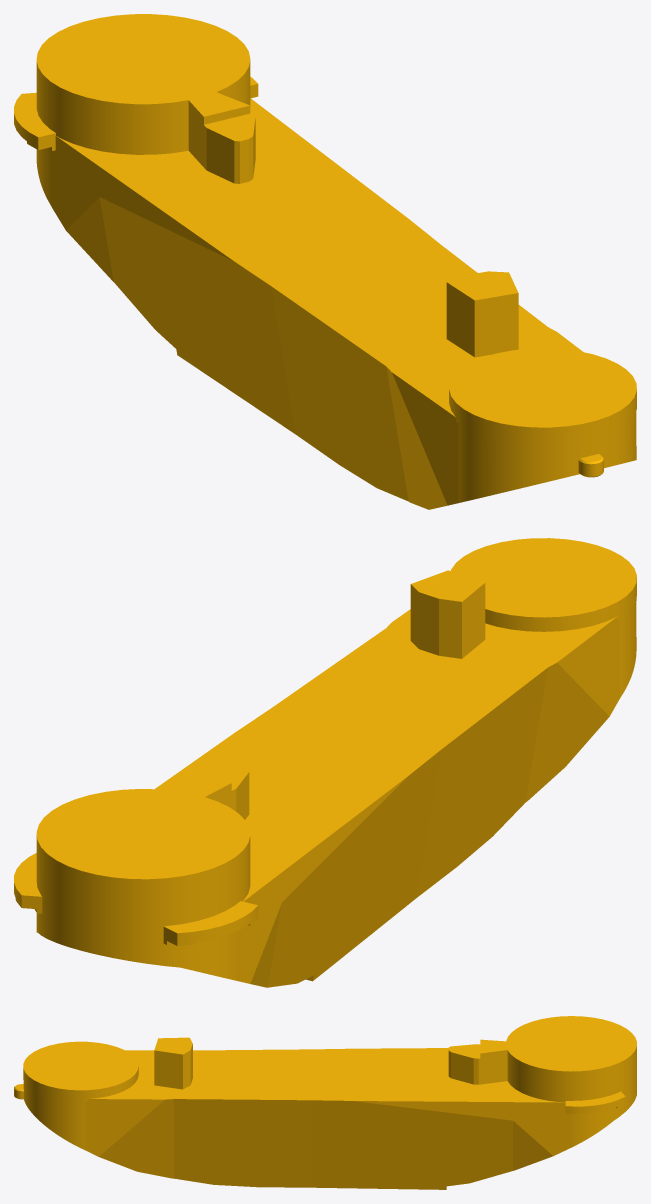
3 renders of one model, top to bottom at view 1: azimuth 30°, elevation 25°; view 2: azimuth 150°, elevation 25°; view 3: azimuth 270°, elevation 25°, orthographic. The views are drawn at different scales.
Visible parts, largest first — view 1: KR16-AV300.sldasm-Part-14-1; view 2: KR16-AV300.sldasm-Part-14-1; view 3: KR16-AV300.sldasm-Part-14-1.
Boxes of the visible parts, left/top/right/bottom form: KR16-AV300.sldasm-Part-14-1: left=14, top=14, right=636, bottom=509; KR16-AV300.sldasm-Part-14-1: left=14, top=538, right=636, bottom=987; KR16-AV300.sldasm-Part-14-1: left=14, top=1016, right=636, bottom=1189.
Size of the model in its own units: 0.2194 by 0.1995 by 0.8635.
